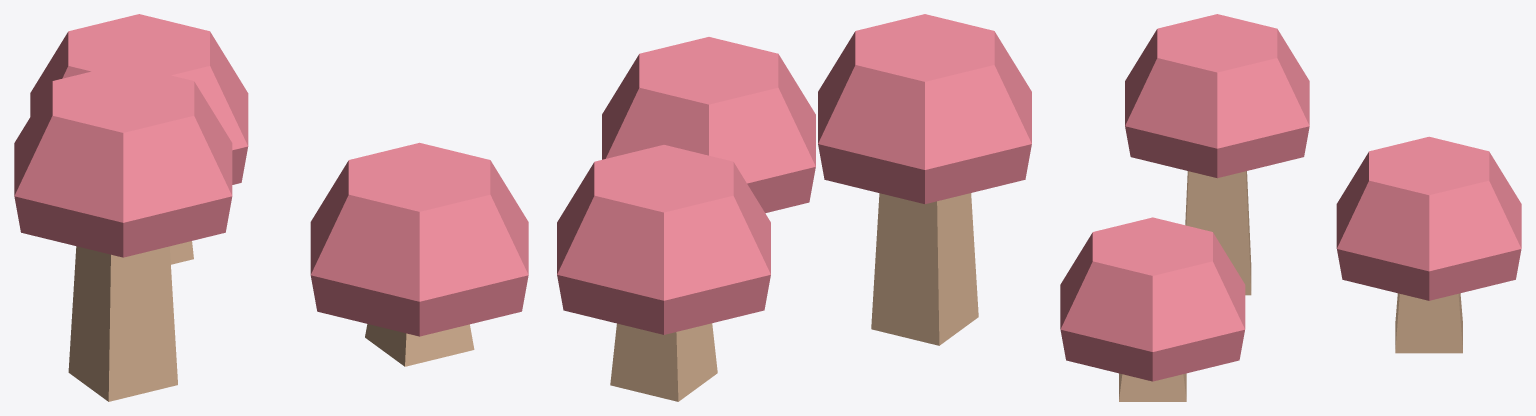
Rendered from mushrooms.glb.
The picture shows the model from 3 angles, left to right: view 1: azimuth 30°, elevation 25°; view 2: azimuth 150°, elevation 25°; view 3: azimuth 270°, elevation 25°; orthographic projection. The views are drawn at different scales.
Parts seen in each view (by area): view 1: mushrooms(Clone); view 2: mushrooms(Clone); view 3: mushrooms(Clone).
Part boxes in pixels (bbox=[...]): mushrooms(Clone): bbox=[14, 14, 528, 401]; mushrooms(Clone): bbox=[557, 14, 1031, 401]; mushrooms(Clone): bbox=[1060, 14, 1521, 401].
Bounding box in the file's own units: 0.5242 × 0.295 × 0.5188.
